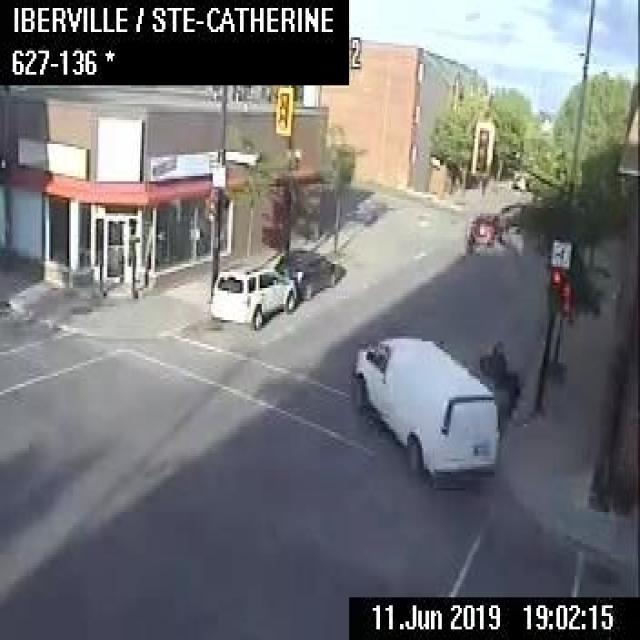pedestrian: (478, 337, 520, 433)
vehicle: (348, 333, 500, 491), (206, 257, 296, 330), (274, 246, 338, 301), (464, 208, 495, 251), (509, 170, 529, 192)
